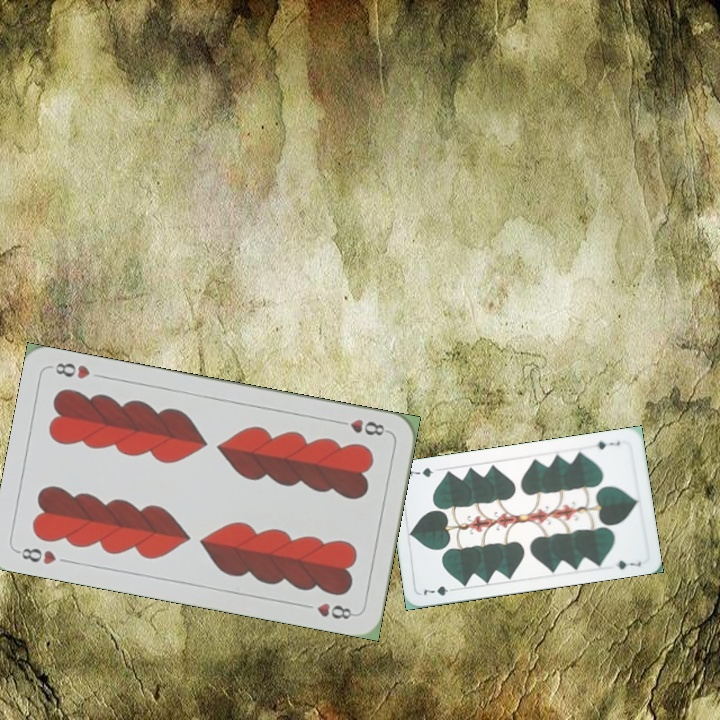G7: (418, 582, 459, 598), (587, 437, 623, 452)
H8: (332, 415, 391, 438), (13, 543, 59, 567)
